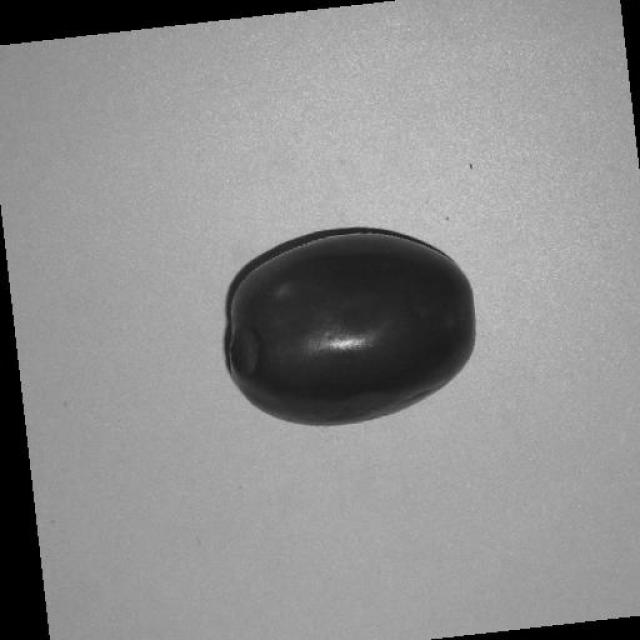Stale_tomato: (224, 213, 481, 444)
